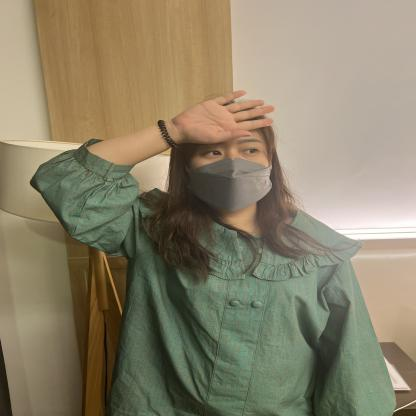Sick: (103, 69, 368, 204)
